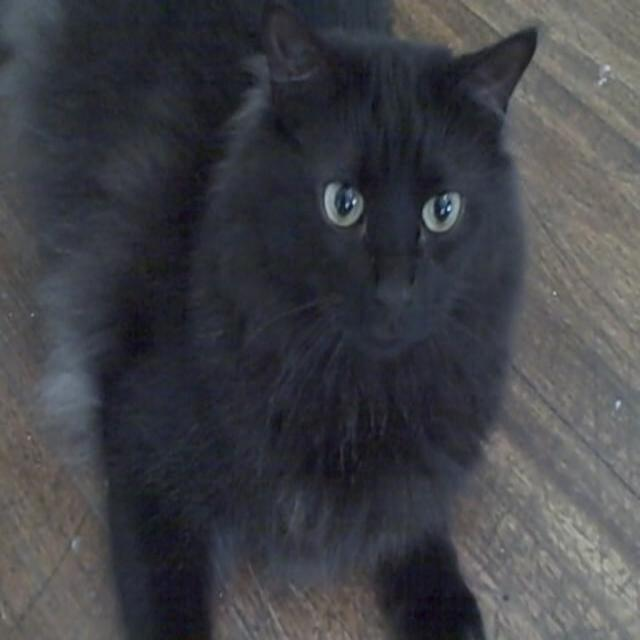Cat: (0, 0, 538, 638)
